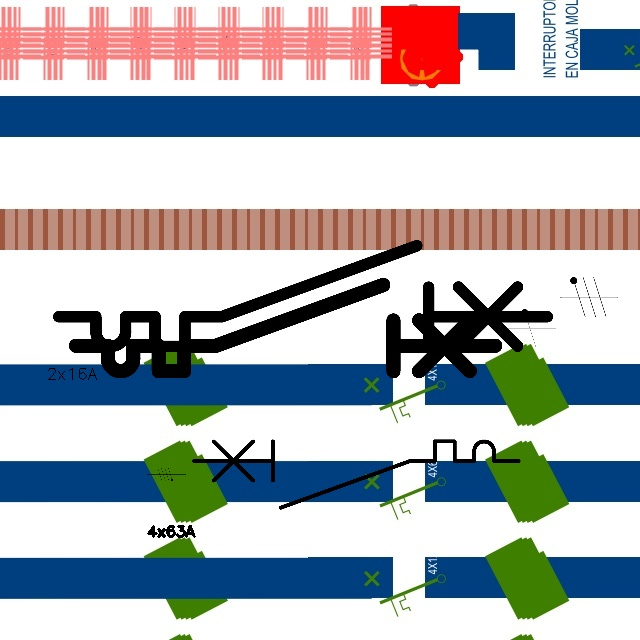interruptor_termomagnetico: (46, 233, 559, 359), (65, 274, 506, 382), (185, 433, 526, 516)
